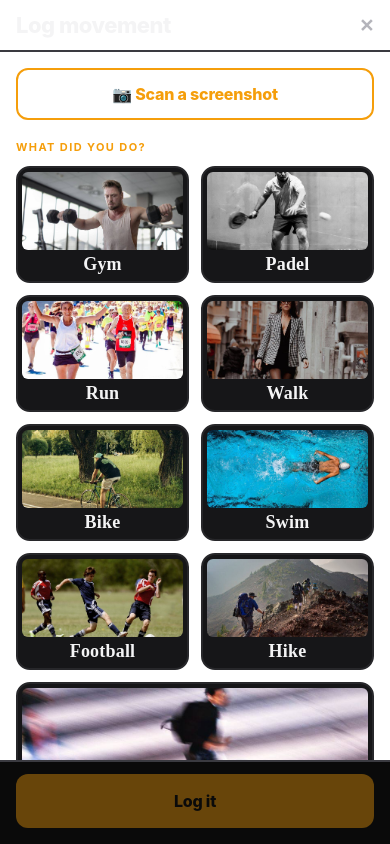
Test case: QuickLogSheet › shows a distance field only for distance-y types
Note: Padel — no distance.
Click the element named "type Padel" at point(288, 224), box [201,166,374,283]
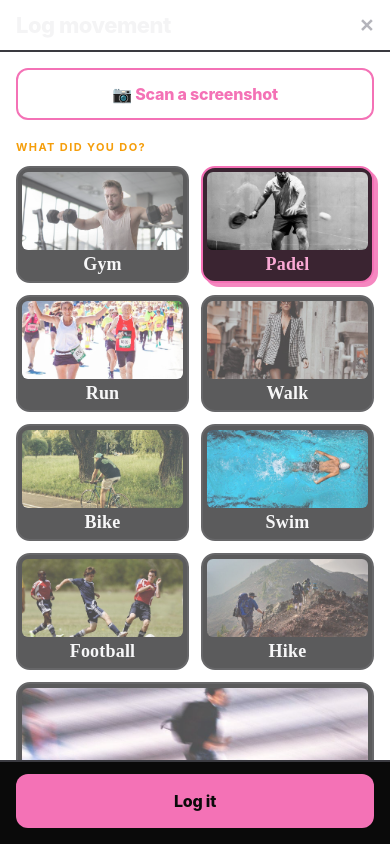
Note: Run — distance appears.
Click the element named "type Run" at point(102, 354), box [16,295,189,412]
(page scrolled)
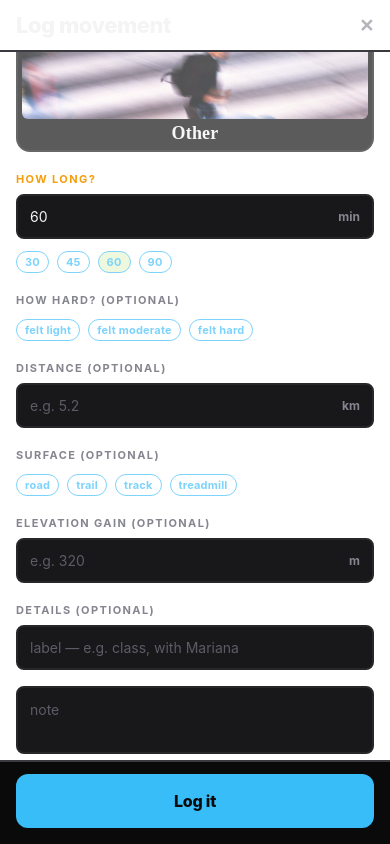
expect the field named "distance km" is shown: met, box [30,385,338,426]
